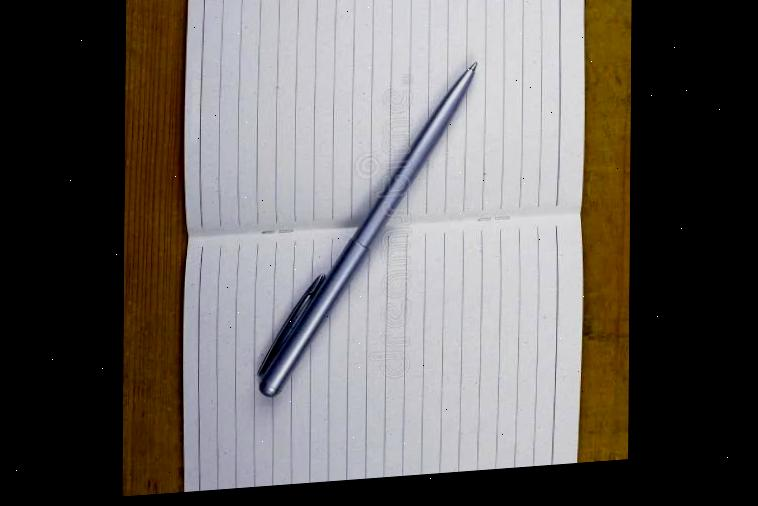pen-pencil: (258, 63, 475, 397)
